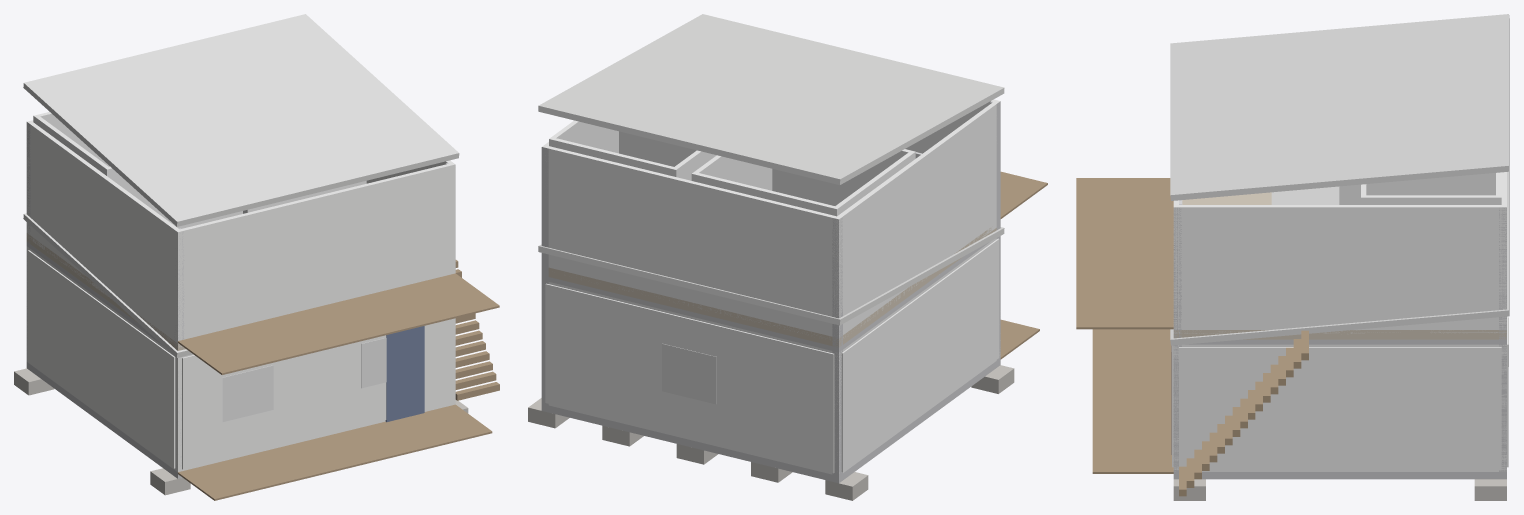
The model's file is Duplex-20-SlopingRoof-LOD1.glb.
3 renders of one model, left to right at view 1: azimuth 30°, elevation 25°; view 2: azimuth 150°, elevation 25°; view 3: azimuth 270°, elevation 25°, orthographic. The views are drawn at different scales.
Visible parts, largest first — view 1: RoofSlopingUpgrade.001, ExteriorShellUpper, ExteriorPanelsStandard, BalconyUpper, BalconyGround, WindowsStandard, EntryDoor, StaircaseExternal, ExteriorShell, BedroomUpper, FoundationBlocks, RoofSlopingUpgrade (+4 smaller); view 2: ExteriorShellUpper, ExteriorPanelsStandard, RoofSlopingUpgrade.001, BedroomUpper, VerticalStructure, StudyUpper, FloorUpper, FoundationBlocks, RoofSlopingUpgrade, BaseFrame, WindowsStandard, ExteriorShell (+3 smaller); view 3: RoofSlopingUpgrade.001, ExteriorShellUpper, ExteriorPanelsStandard, BalconyUpper, BalconyGround, RoofSlopingUpgrade, StaircaseExternal, StudyUpper, FloorUpper, VerticalStructure, ExteriorShell, BaseFrame (+2 smaller).
Boxes of the visible parts, x1,y1,x2,y2 form: RoofSlopingUpgrade.001: (23,14,459,226); ExteriorShellUpper: (26,120,455,347); ExteriorPanelsStandard: (28,250,452,469); BalconyUpper: (178,273,499,374); BalconyGround: (178,404,492,500); WindowsStandard: (222,338,386,421); EntryDoor: (385,326,424,422); StaircaseExternal: (455,260,499,400); ExteriorShell: (26,246,455,471); BedroomUpper: (33,112,242,228); FoundationBlocks: (14,368,468,495); RoofSlopingUpgrade: (23,213,192,357); ExteriorShellUpper: (542,99,1000,339); ExteriorPanelsStandard: (545,238,999,473); RoofSlopingUpgrade.001: (538,14,1004,184); BedroomUpper: (691,149,915,216); VerticalStructure: (541,101,1000,475); StudyUpper: (549,120,716,180); FloorUpper: (548,228,996,347); FoundationBlocks: (528,365,1014,500); RoofSlopingUpgrade: (538,227,1004,325); BaseFrame: (541,358,1000,483); WindowsStandard: (662,343,716,404); ExteriorShell: (548,238,1000,474); RoofSlopingUpgrade.001: (1170,14,1509,200); ExteriorShellUpper: (1173,172,1506,333); ExteriorPanelsStandard: (1172,316,1508,470); BalconyUpper: (1076,178,1173,329); BalconyGround: (1092,329,1173,473); RoofSlopingUpgrade: (1170,171,1509,345); StaircaseExternal: (1179,330,1308,496); StudyUpper: (1361,172,1501,204); FloorUpper: (1173,192,1506,339); VerticalStructure: (1173,204,1506,471); ExteriorShell: (1173,344,1506,471); BaseFrame: (1173,472,1506,479).
Bounding box in the file's own units: 7.94 × 6.72 × 8.01.
